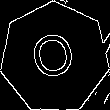O_S: (28, 27, 82, 88)
